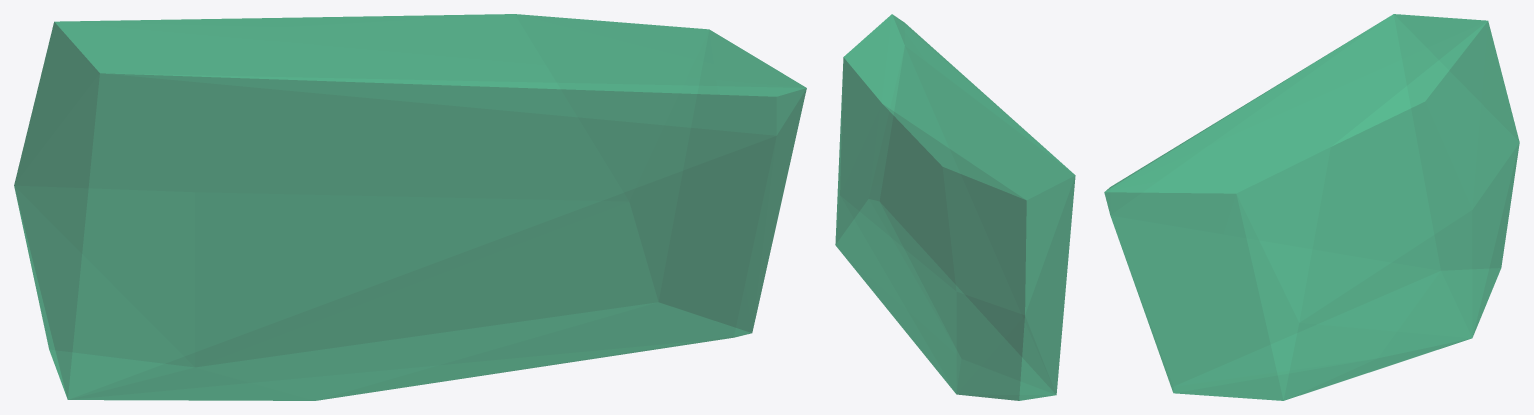
The picture shows the model from 3 angles, left to right: view 1: azimuth 30°, elevation 25°; view 2: azimuth 150°, elevation 25°; view 3: azimuth 270°, elevation 25°; orthographic projection. The views are drawn at different scales.
Parts seen in each view (by area): view 1: Shape_IndexedFaceSet.056_Shape_IndexedFaceSet.485; view 2: Shape_IndexedFaceSet.056_Shape_IndexedFaceSet.485; view 3: Shape_IndexedFaceSet.056_Shape_IndexedFaceSet.485.
Part boxes in pixels (x1,y1,x2,y2): Shape_IndexedFaceSet.056_Shape_IndexedFaceSet.485: (14, 14, 806, 400); Shape_IndexedFaceSet.056_Shape_IndexedFaceSet.485: (835, 14, 1075, 400); Shape_IndexedFaceSet.056_Shape_IndexedFaceSet.485: (1104, 14, 1519, 400).
Bounding box in the file's own units: 0.1162 × 0.0817 × 0.1119.
